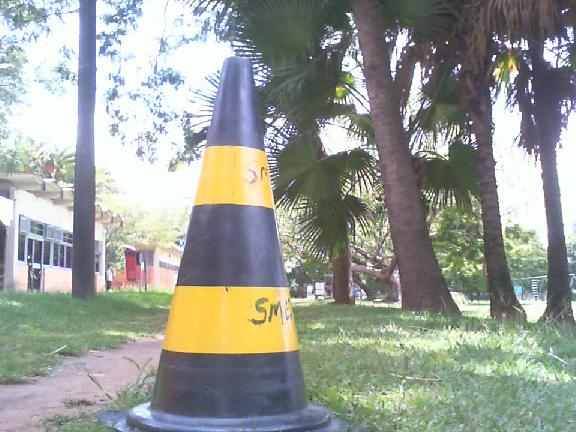0 cone: (102, 56, 352, 432)
